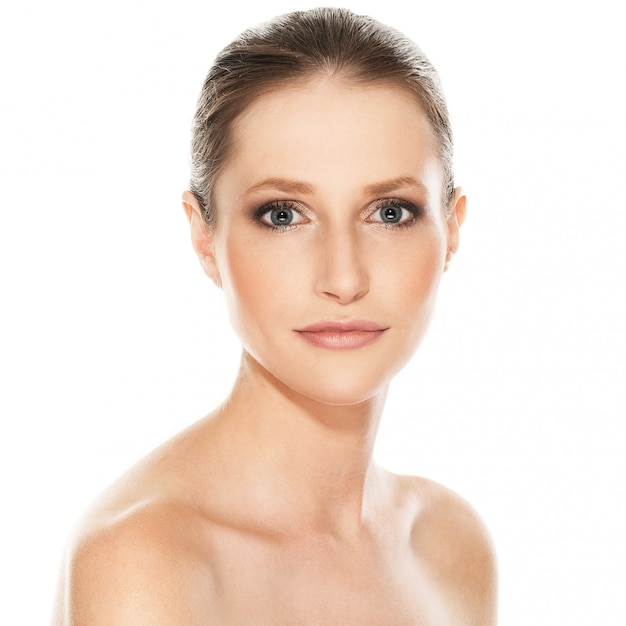young: (180, 39, 463, 394)
